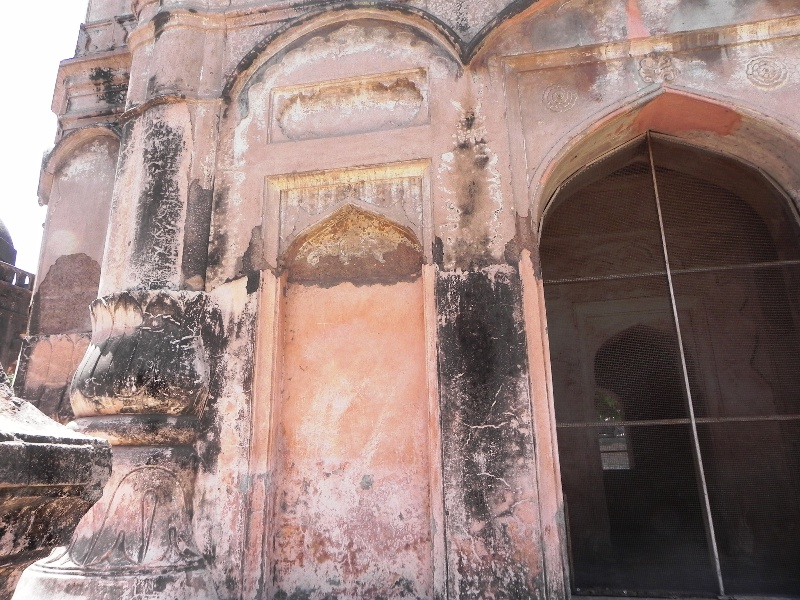Spalling: (274, 238, 425, 293), (34, 253, 100, 330), (507, 211, 547, 286), (241, 223, 267, 288)
